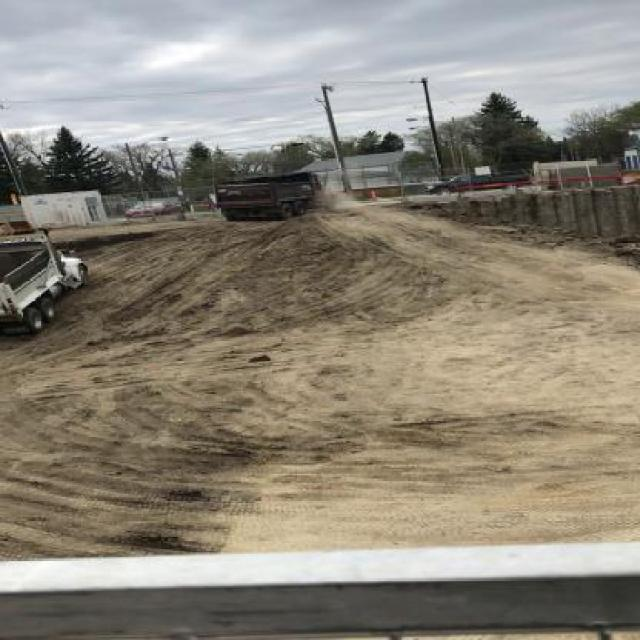dump_truck: (0, 231, 92, 334), (210, 172, 344, 219)
